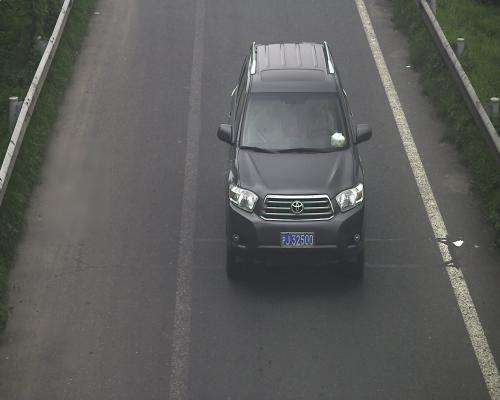Carplate: (277, 225, 318, 256)
